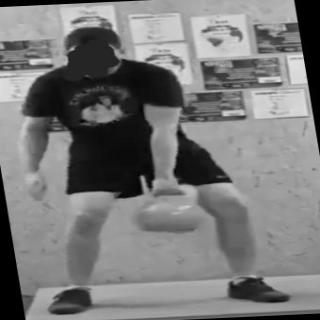kettlebell: (127, 179, 211, 239)
